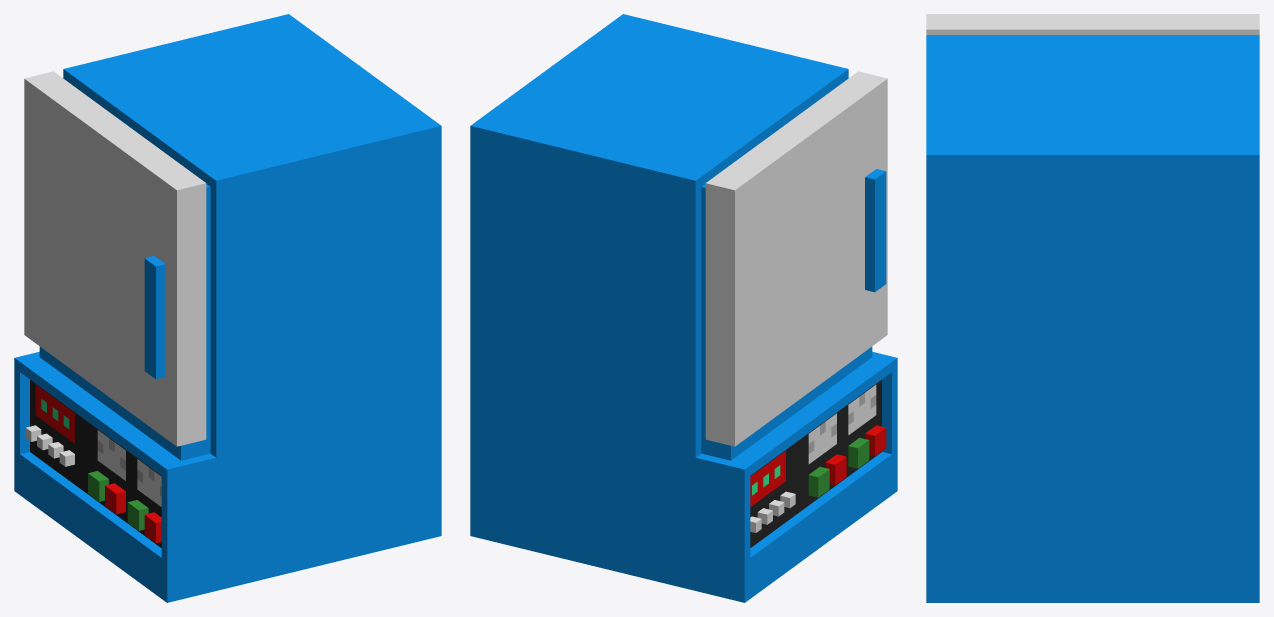
The model's file is Voxel Universe-39-Fridge.obj.
The picture shows the model from 3 angles, left to right: view 1: azimuth 30°, elevation 25°; view 2: azimuth 150°, elevation 25°; view 3: azimuth 270°, elevation 25°; orthographic projection. The views are drawn at different scales.
Parts seen in each view (by area): view 1: Fridge; view 2: Fridge; view 3: Fridge.
Part boxes in pixels (left/top/right/bottom): Fridge: left=14, top=14, right=441, bottom=602; Fridge: left=470, top=14, right=897, bottom=602; Fridge: left=926, top=14, right=1259, bottom=602.
Size of the model in its own units: 2.8 by 4 by 2.7.
1 material, 1 textured.
